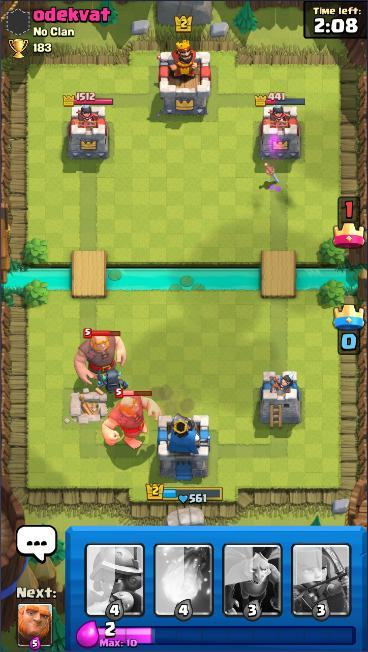EGoblinCage: (96, 367, 129, 395)
ESkelBarrel: (102, 387, 163, 450), (74, 328, 128, 386)
